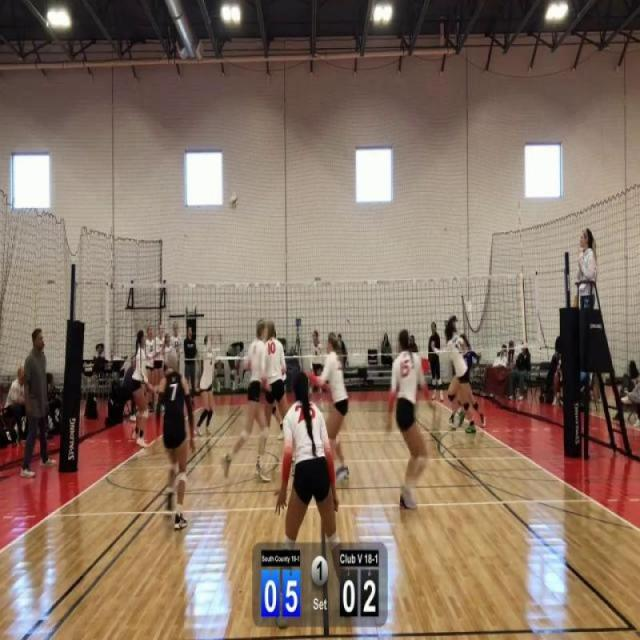volleyball: (228, 192, 240, 211)
